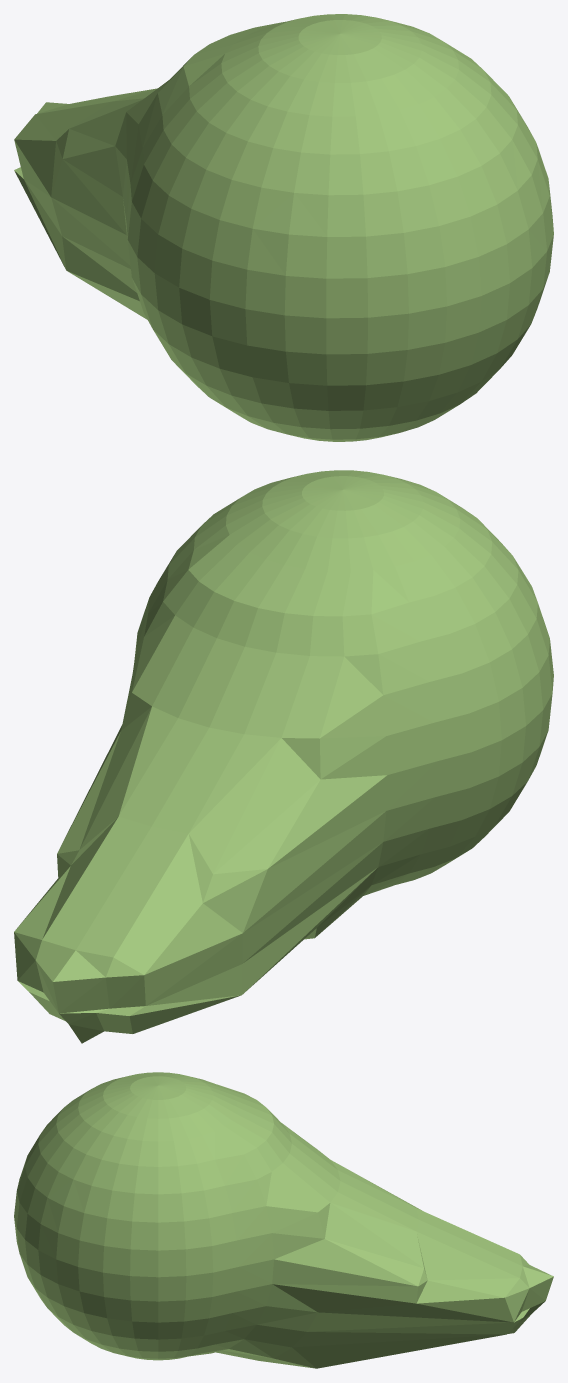
The model's file is snektail.dae.
3 renders of one model, top to bottom at view 1: azimuth 30°, elevation 25°; view 2: azimuth 150°, elevation 25°; view 3: azimuth 270°, elevation 25°, orthographic. The views are drawn at different scales.
Parts seen in each view (by area): view 1: Sphere; view 2: Sphere; view 3: Sphere.
Boxes of the visible parts, x1=… form: Sphere: x1=14, y1=14, x2=553, y2=441; Sphere: x1=14, y1=470, x2=553, y2=1043; Sphere: x1=14, y1=1072, x2=553, y2=1368.
Size of the model in its own units: 1.46 by 1.51 by 2.73.
